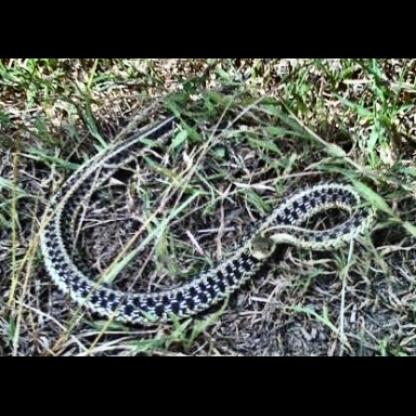Snake: (37, 94, 374, 325)
